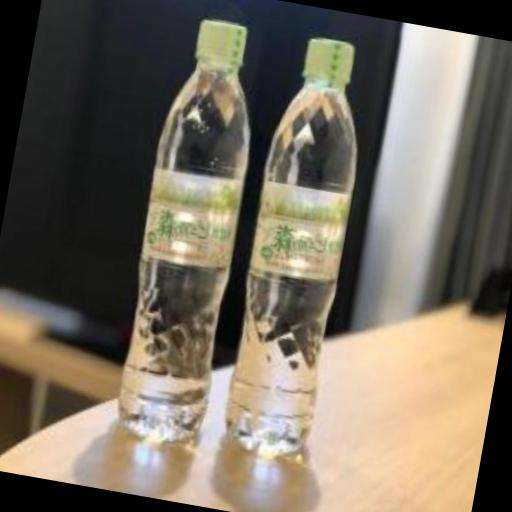Coca: (208, 20, 388, 472), (99, 6, 278, 460)
